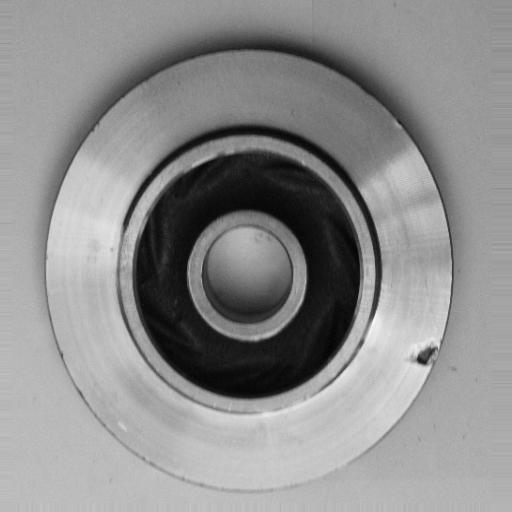crack: (402, 332, 446, 378)
unpolished_casting: (43, 46, 457, 498)
